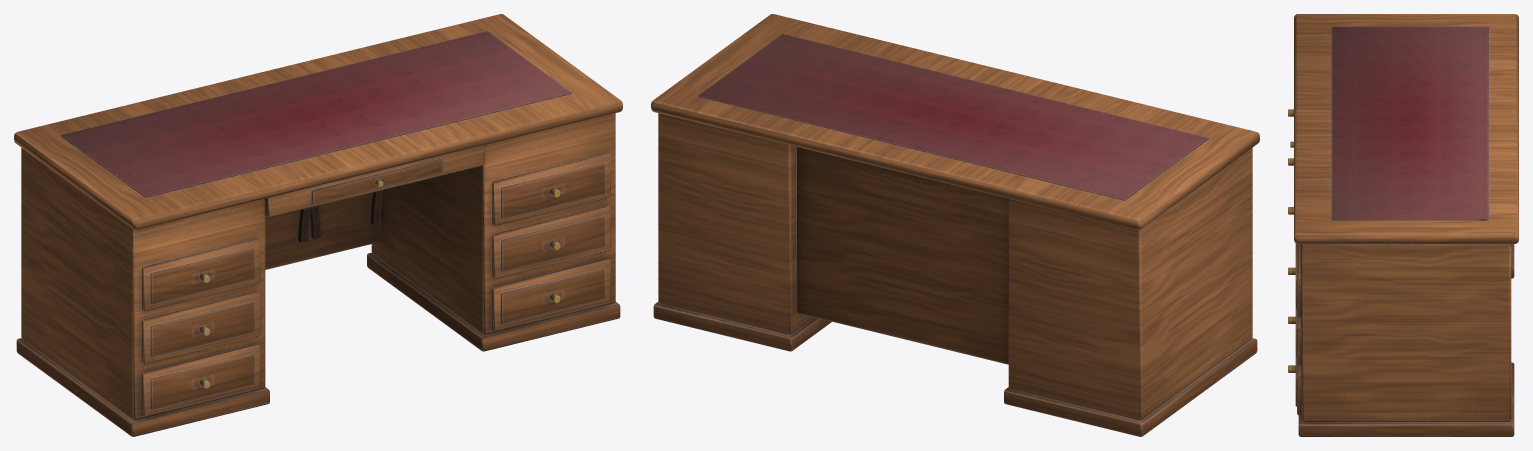
The model's file is TeacherDesk.fbx.
3 views of the same model, side by side, from view 1: azimuth 30°, elevation 25°; view 2: azimuth 150°, elevation 25°; view 3: azimuth 270°, elevation 25° (orthographic). The views are drawn at different scales.
Parts seen in each view (by area): view 1: TeacherDesk; view 2: TeacherDesk; view 3: TeacherDesk.
Boxes of the visible parts, x1,y1,x2,y2 form: TeacherDesk: (14, 14, 622, 436); TeacherDesk: (651, 14, 1259, 436); TeacherDesk: (1288, 14, 1518, 436).
Size of the model in its own units: 700 by 301 by 308.
